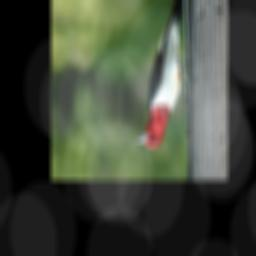Woodpecker: (135, 0, 194, 149)
